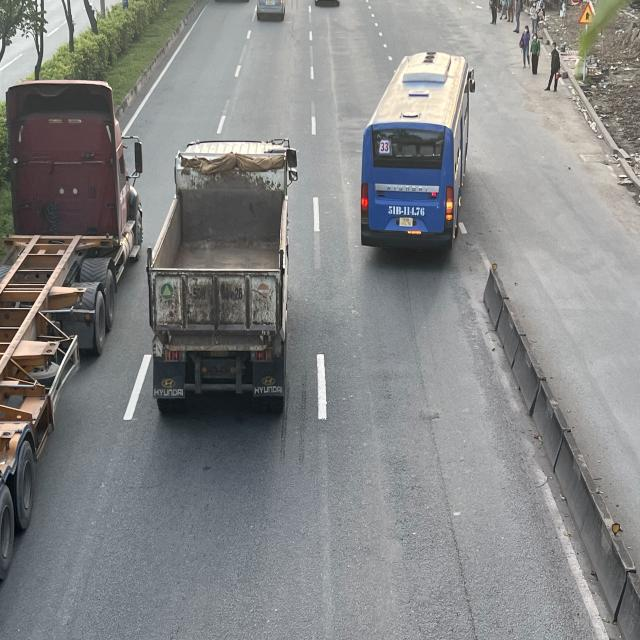coach: (362, 52, 477, 254)
container: (0, 76, 142, 571), (151, 143, 302, 416)
